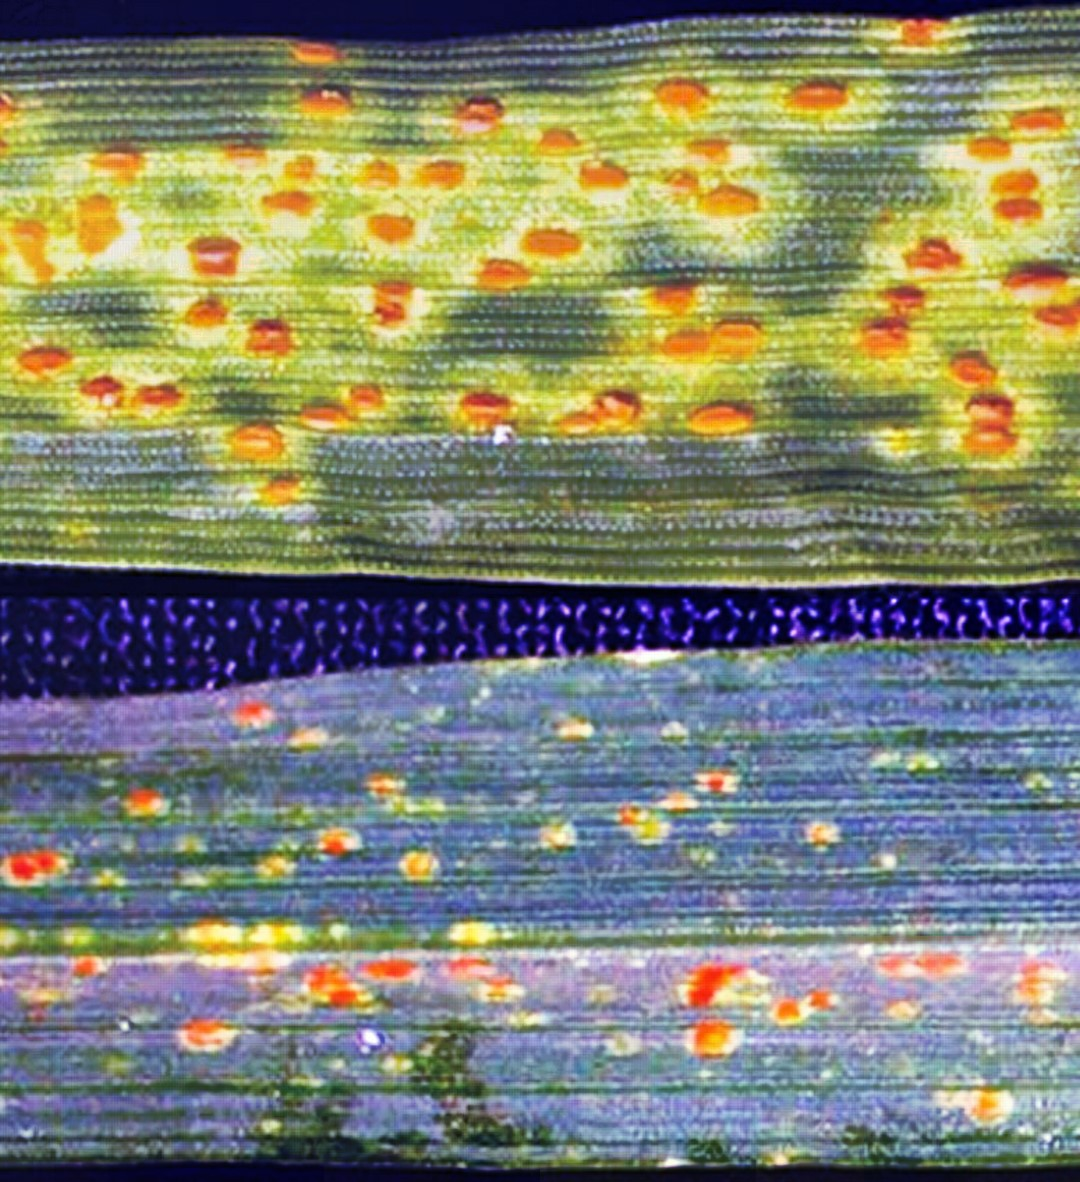Leaf Rust: (25, 48, 1070, 592)
